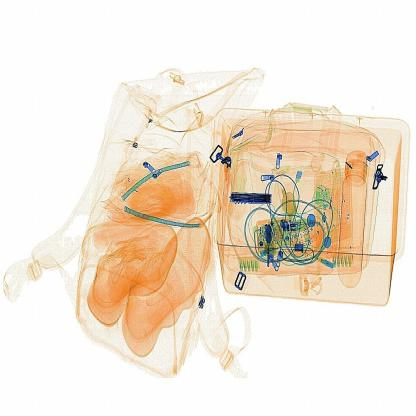scissors: (230, 190, 276, 212)
